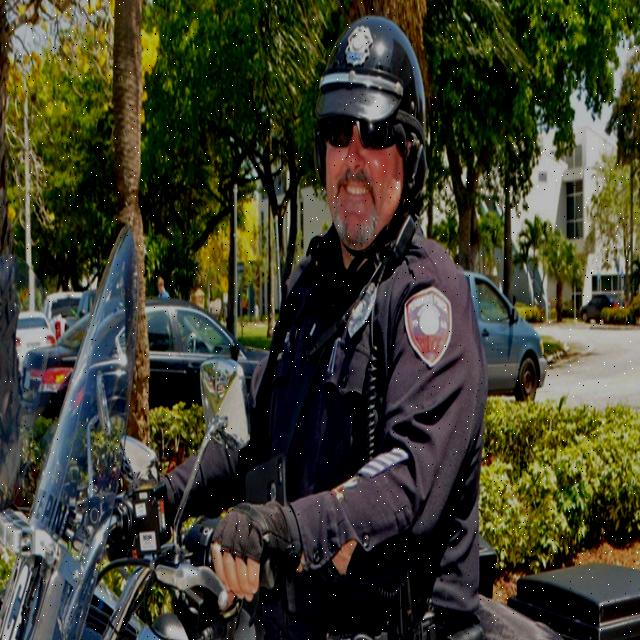police: (147, 0, 491, 640)
